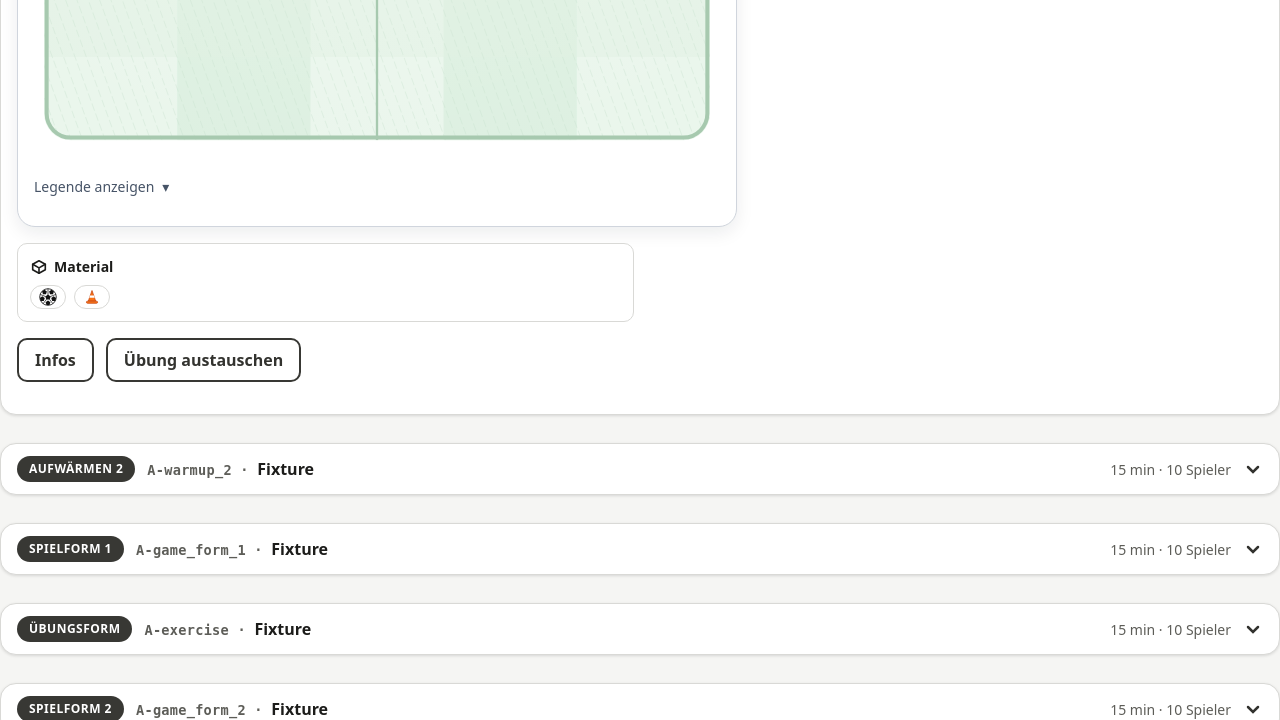
Test case: Austausch-UI › meldet fehlende Alternativen verständlich
The width and height of the screenshot is (1280, 720).
(page scrolled)
Click the button "Übung austauschen" at (204, 360), box x1=106 y1=338 x2=301 y2=382
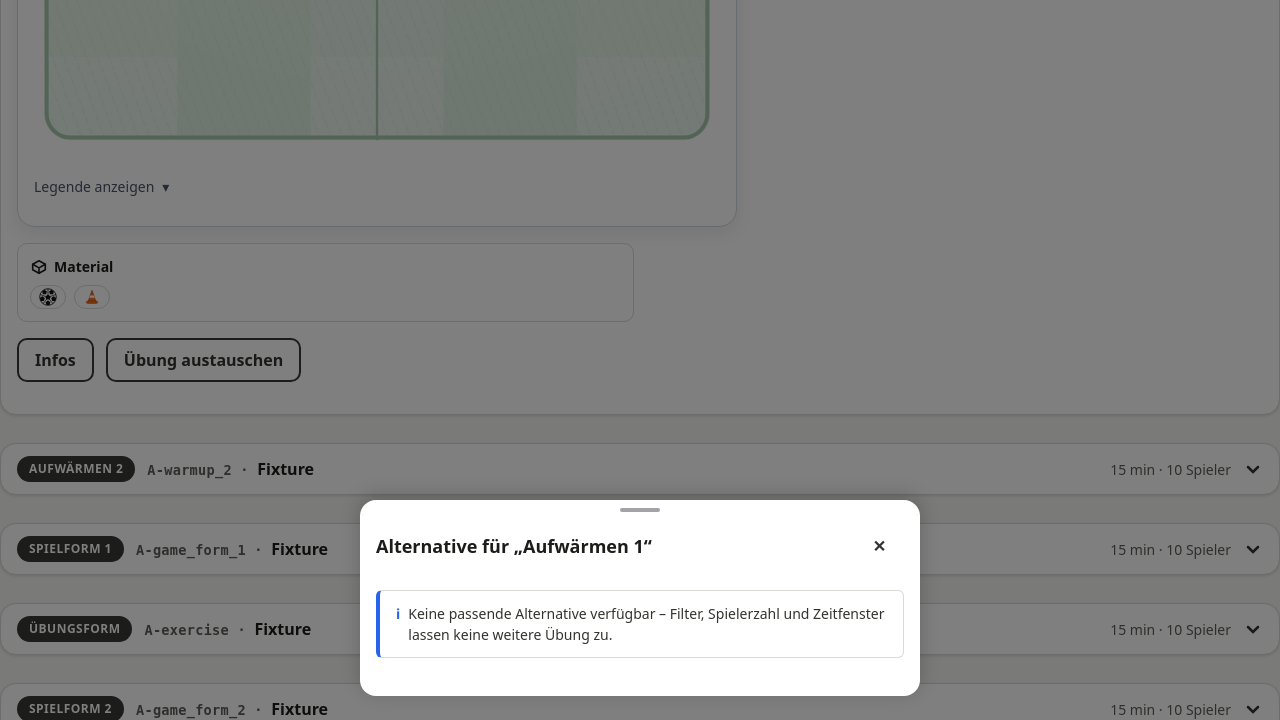
Expected: the text "Keine passende Alternative verfügbar" is shown, x1=408 y1=604 x2=884 y2=644
